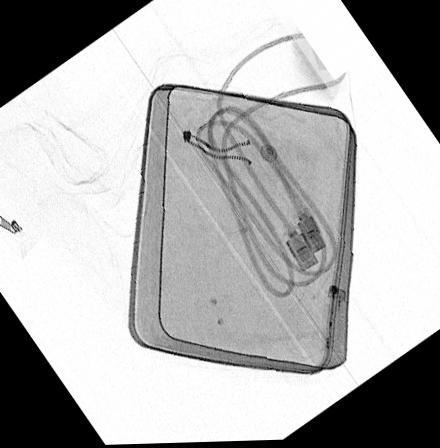Lighter: (321, 286, 345, 356)
